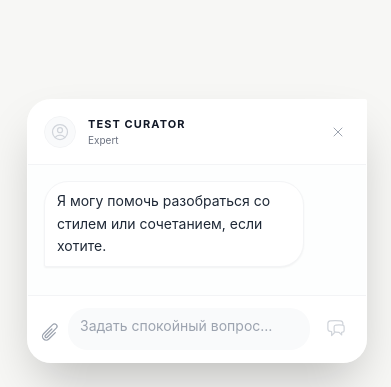
ChatBubble › allows user to type and send a message
Type a message
Type "Привет, мне нравится этот диван" into the text box with placeholder "Задать спокойный вопрос…".
click(189, 326); type("Привет, мне нравится этот диван")  # box [80,316,298,336]
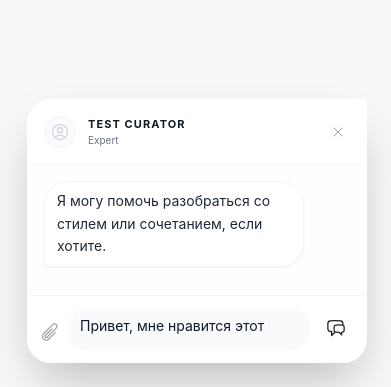
Check: the 3rd button is enabled
Click the 3rd button.
click(336, 328)  # box [318,310,354,346]
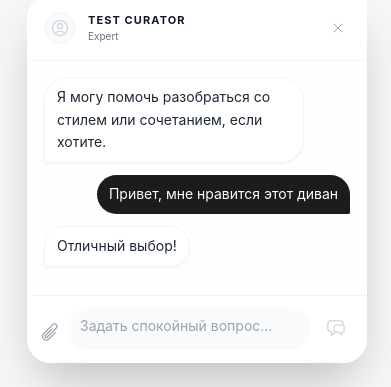
Check: the text "Привет, мне нравится этот диван" is shown, box [97,176,350,214]
Check: the text box with placeholder "Задать спокойный вопрос…" is empty, box [80,316,298,336]
Check: the text "Отличный выбор!" is shown, box [44,226,190,267]
